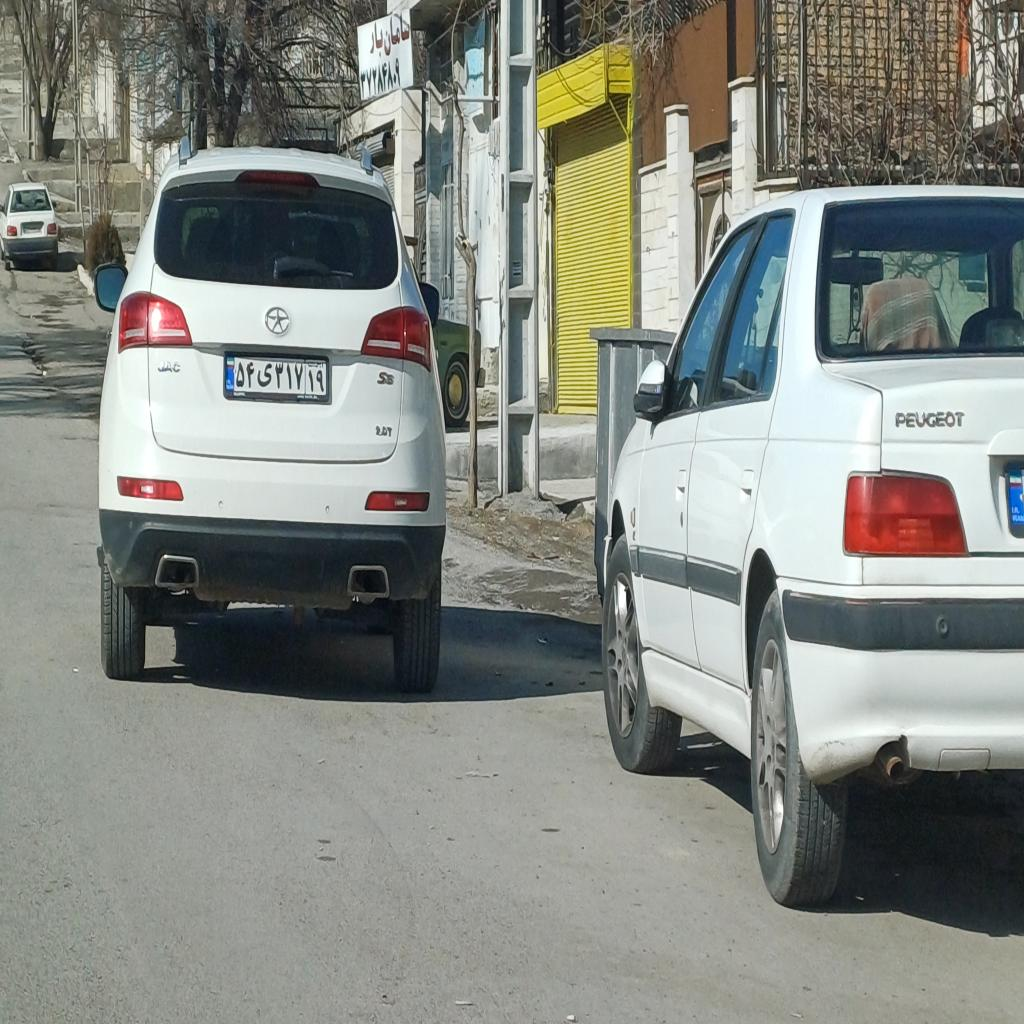Plates: (226, 354, 326, 396)
